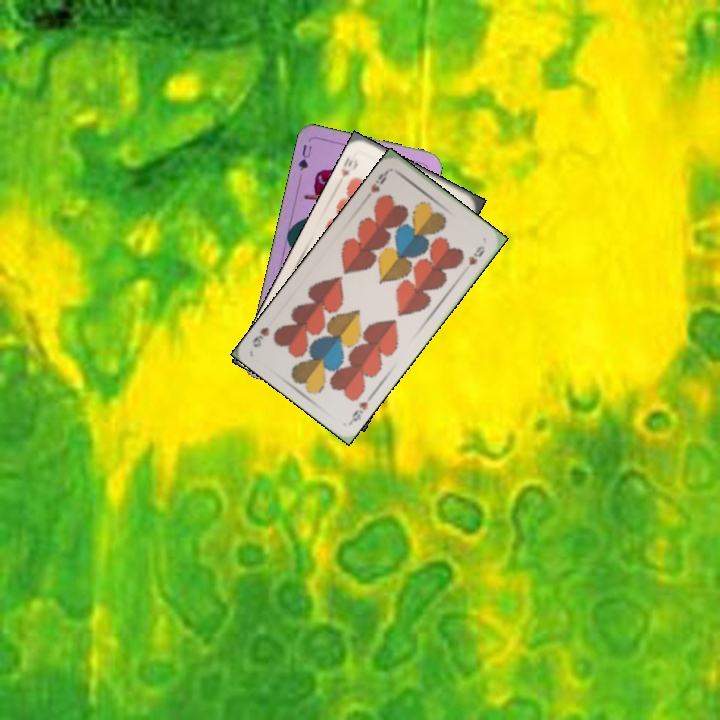GU: (294, 141, 314, 173)
H10: (334, 154, 361, 186)
H9: (367, 166, 392, 195), (346, 397, 371, 426)
